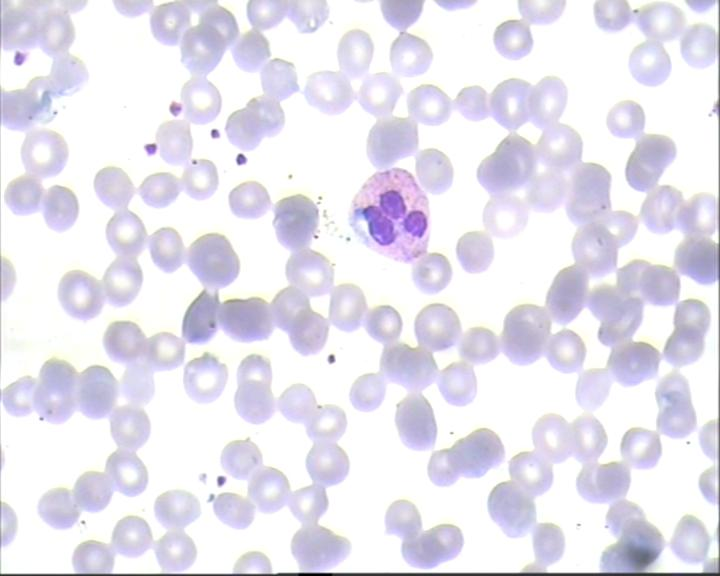neut: (348, 165, 436, 267)
